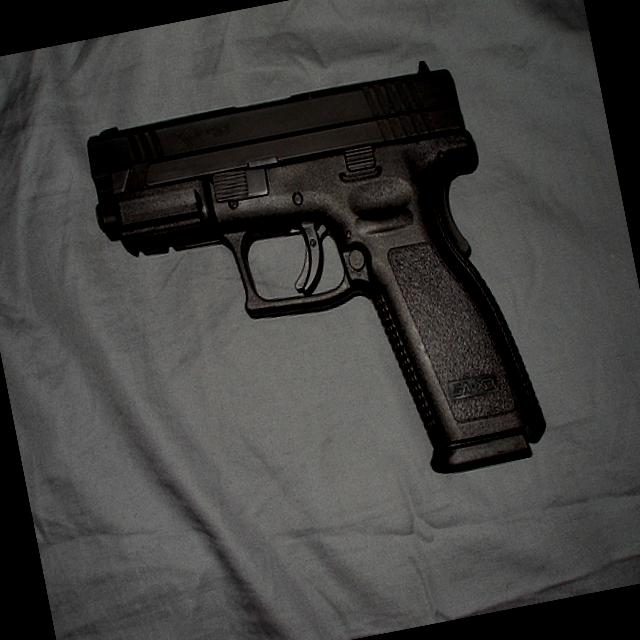handgun: (78, 49, 554, 532)
